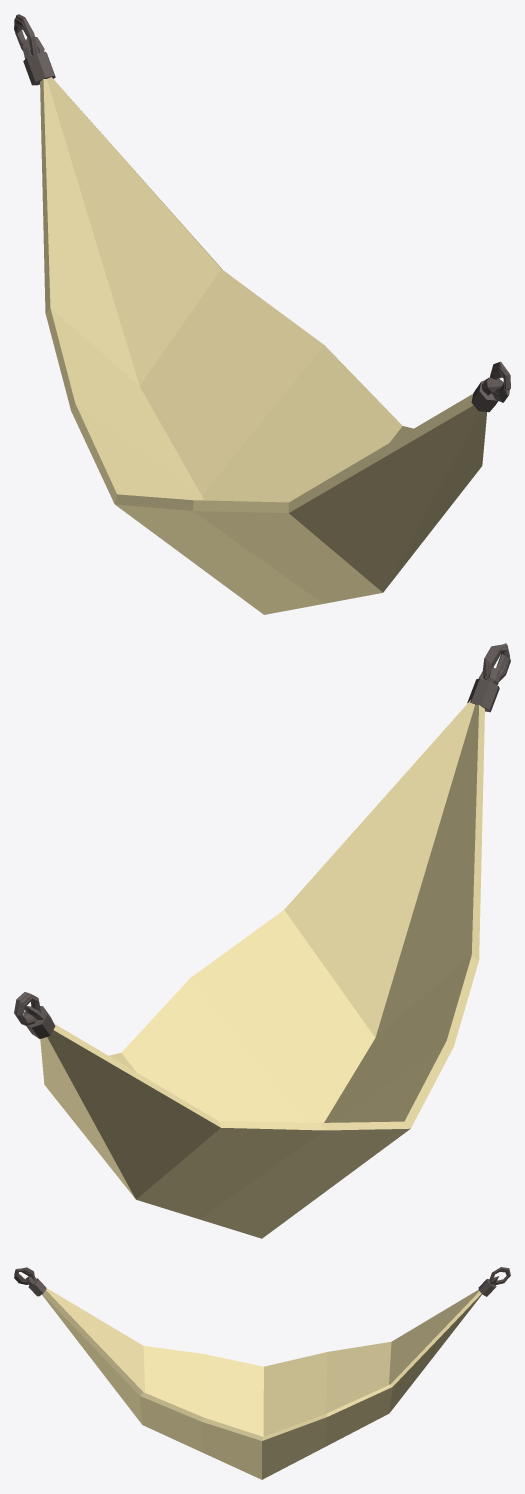
File: Hammac.fbx
The picture shows the model from 3 angles, top to bottom: view 1: azimuth 30°, elevation 25°; view 2: azimuth 150°, elevation 25°; view 3: azimuth 270°, elevation 25°; orthographic projection. The views are drawn at different scales.
Parts seen in each view (by area): view 1: Hammac; view 2: Hammac; view 3: Hammac.
Part boxes in pixels (x1,y1,x2,y2): Hammac: (14,14,510,614); Hammac: (14,643,510,1238); Hammac: (14,1267,510,1479).
Bounding box in the file's own units: 98.65 × 137 × 289.
